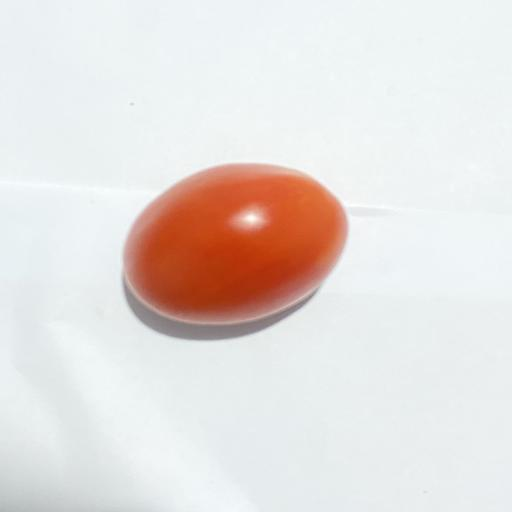ripe: (124, 164, 347, 324)
